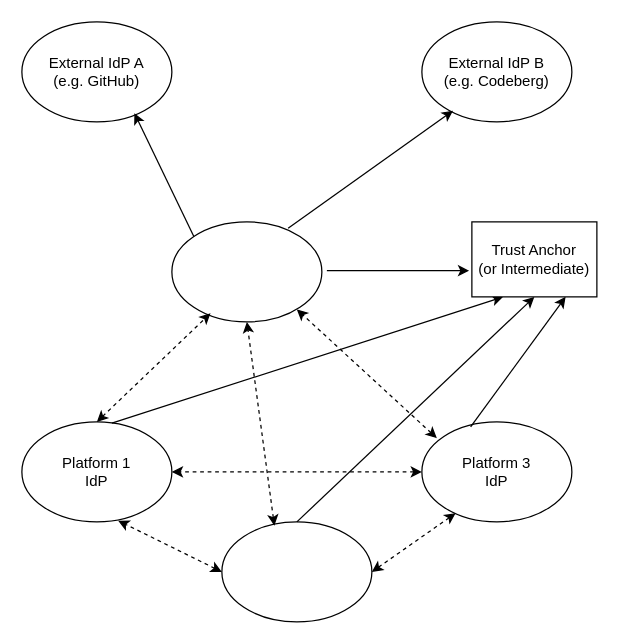
This 619x644 diagram has some shape labels left out. The centre of each missing label's shape, as x and y in pixels:
"Platform 2 IdP" belongs at point (296, 571).
"Shared IdP (fully trusted)" belongs at point (246, 271).
